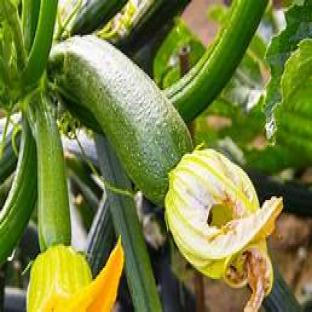Zucchini: (49, 37, 192, 205), (28, 94, 71, 251), (0, 120, 37, 264), (0, 133, 20, 183)
